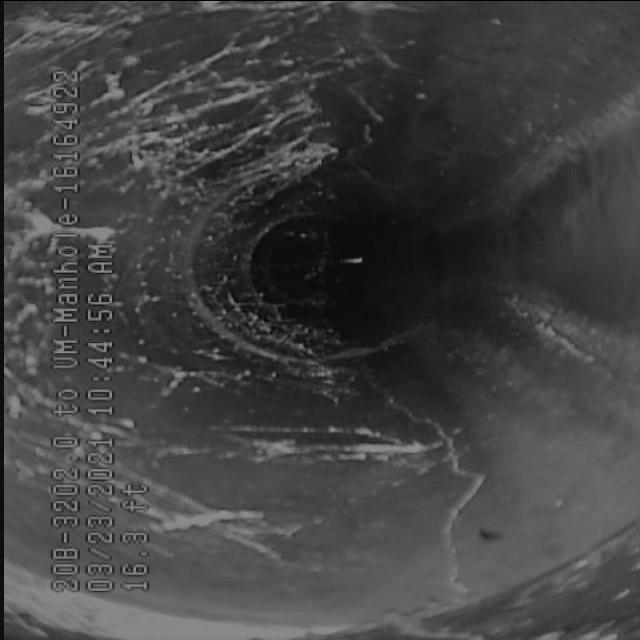Crack: (365, 380, 503, 568)
